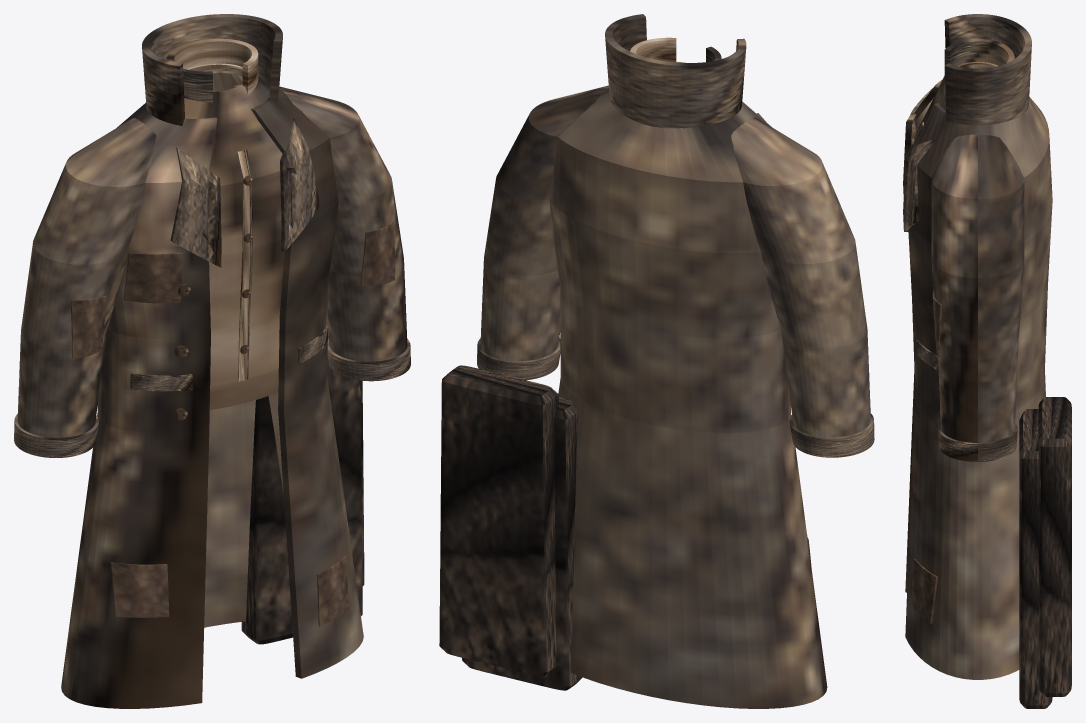
3 renders of one model, left to right at view 1: azimuth 30°, elevation 25°; view 2: azimuth 150°, elevation 25°; view 3: azimuth 270°, elevation 25°, orthographic. The views are drawn at different scales.
Visible parts, largest first — view 1: outer_coat, left_coat_sleeve, shirt_body, right_coat_sleeve, folded_trousers_0, raised_coat_collar, left_lapel, shirt_collar, right_lapel, coat_patch_0, coat_patch_2, shirt_placket (+6 smaller); view 2: outer_coat, folded_trousers_1, left_coat_sleeve, right_coat_sleeve, raised_coat_collar, folded_trousers_0, left_coat_cuff, right_coat_cuff, shirt_collar; view 3: outer_coat, right_coat_sleeve, folded_trousers_1, raised_coat_collar, folded_trousers_0, shirt_collar, right_coat_cuff, right_lapel, coat_patch_1, left_lapel, shirt_body, right_elbow_patch (+1 smaller).
Part boxes in pixels (left/top/right/bottom): outer_coat: left=61, top=89, right=363, bottom=708; left_coat_sleeve: left=17, top=118, right=156, bottom=437; shirt_body: left=184, top=63, right=284, bottom=409; right_coat_sleeve: left=279, top=86, right=407, bottom=361; folded_trousers_0: left=241, top=356, right=362, bottom=644; raised_coat_collar: left=142, top=14, right=282, bottom=125; left_lapel: left=170, top=147, right=221, bottom=267; shirt_collar: left=166, top=38, right=258, bottom=102; right_lapel: left=280, top=118, right=319, bottom=252; coat_patch_0: left=110, top=562, right=169, bottom=617; coat_patch_2: left=123, top=252, right=182, bottom=303; shirt_placket: left=237, top=149, right=252, bottom=381; outer_coat: left=549, top=88, right=827, bottom=708; folded_trousers_1: left=439, top=365, right=558, bottom=676; left_coat_sleeve: left=731, top=117, right=870, bottom=437; right_coat_sleeve: left=480, top=85, right=608, bottom=361; raised_coat_collar: left=605, top=14, right=746, bottom=128; folded_trousers_0: left=462, top=397, right=582, bottom=690; left_coat_cuff: left=789, top=413, right=874, bottom=457; right_coat_cuff: left=477, top=338, right=560, bottom=380; shirt_collar: left=630, top=37, right=721, bottom=62; outer_coat: left=905, top=79, right=1052, bottom=679; right_coat_sleeve: left=931, top=134, right=1024, bottom=442; folded_trousers_1: left=1038, top=397, right=1071, bottom=696; raised_coat_collar: left=944, top=14, right=1031, bottom=125; folded_trousers_0: left=1019, top=409, right=1052, bottom=708; shirt_collar: left=944, top=39, right=1014, bottom=92; right_coat_cuff: left=938, top=422, right=1017, bottom=461; right_lapel: left=903, top=139, right=937, bottom=231; coat_patch_1: left=911, top=559, right=937, bottom=623; left_lapel: left=903, top=86, right=934, bottom=194; shirt_body: left=914, top=61, right=997, bottom=141; right_elbow_patch: left=932, top=291, right=942, bottom=357.
Bounding box in the file's own units: 69.9 × 111 × 28.83.
Materials: 5 (5 with a texture image).
